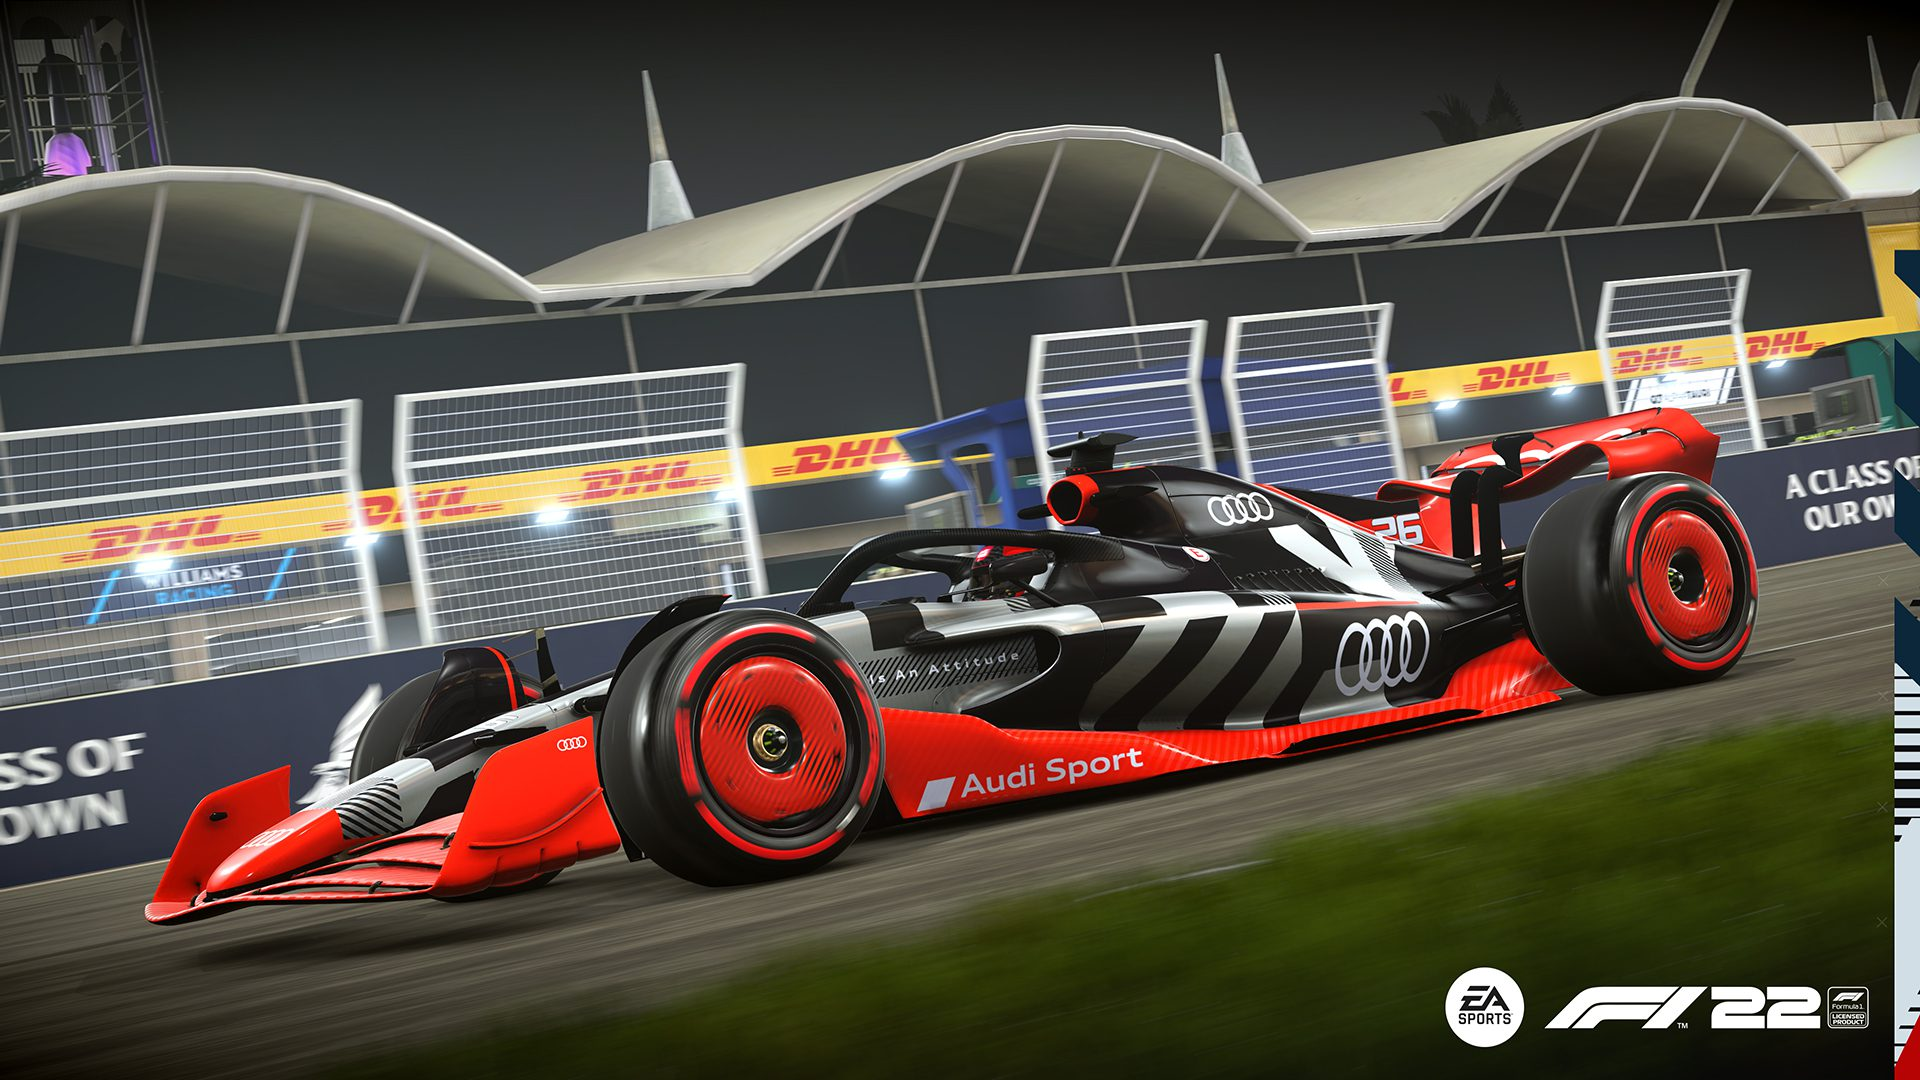Formule 1: (148, 421, 1762, 932)
